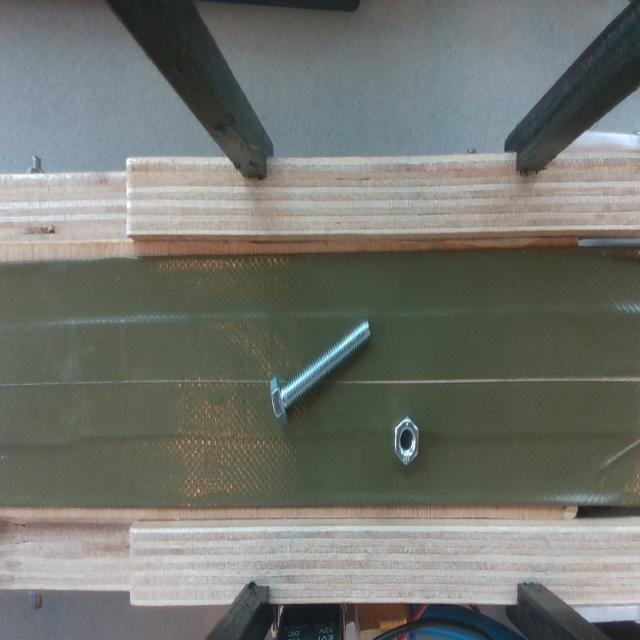Bolt: (260, 315, 379, 426)
Nut: (389, 413, 426, 467)
